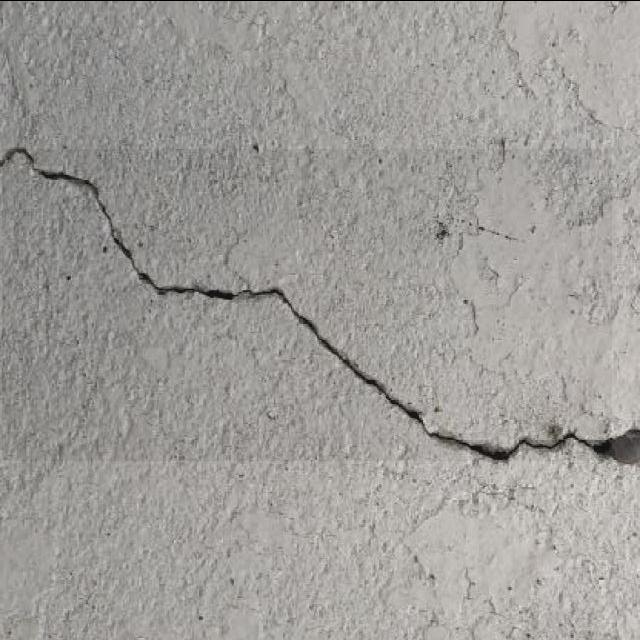crack: (0, 143, 639, 468), (13, 149, 251, 302)
